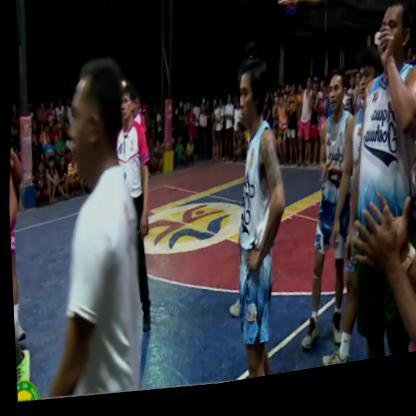rim: (281, 0, 306, 32)
